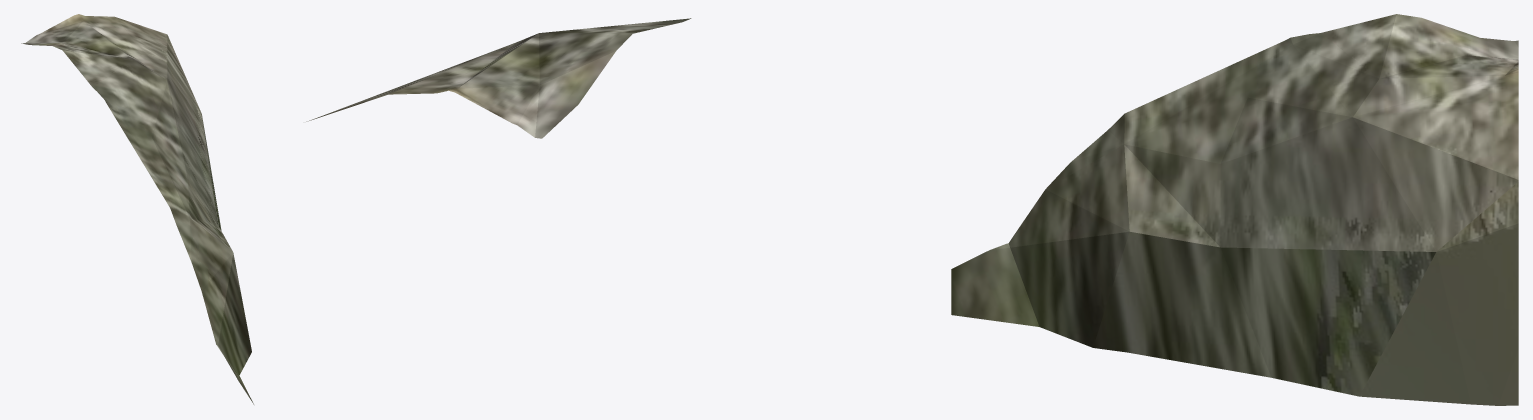
3 views of the same model, side by side, from view 1: azimuth 30°, elevation 25°; view 2: azimuth 150°, elevation 25°; view 3: azimuth 270°, elevation 25° (orthographic). The views are drawn at different scales.
Bounding box in the file's own units: 1.25 × 1.67 × 2.95.
2 materials, 2 textured.
